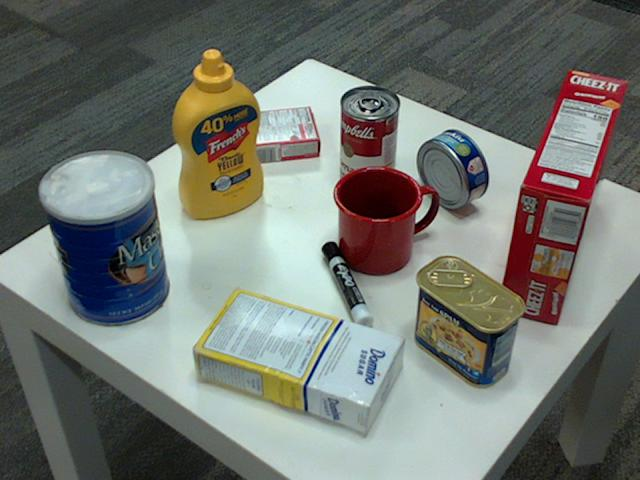cracker_box: (496, 68, 626, 322)
gelatin_box: (242, 103, 321, 161)
large_marker: (321, 243, 372, 333)
master_chef_can: (36, 151, 167, 327)
mug: (331, 163, 434, 272)
mustard_bottle: (171, 49, 263, 217)
potted_meat_can: (411, 254, 525, 386)
sugar_box: (186, 285, 401, 431)
tomato_soup_can: (339, 86, 399, 190)
tuna_fish_can: (416, 128, 487, 208)
